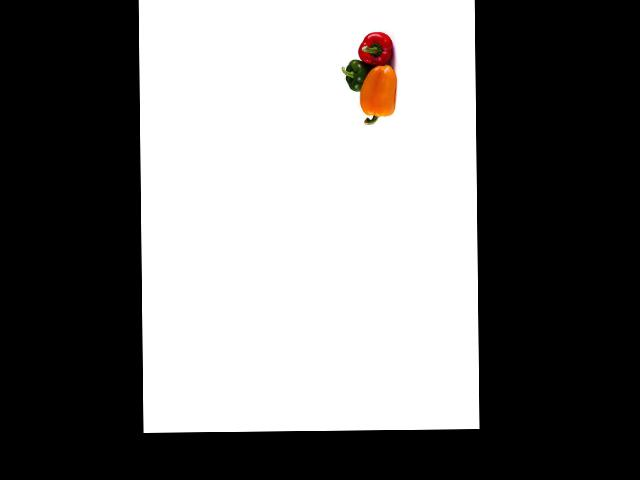bell_pepper: (341, 56, 374, 94)
